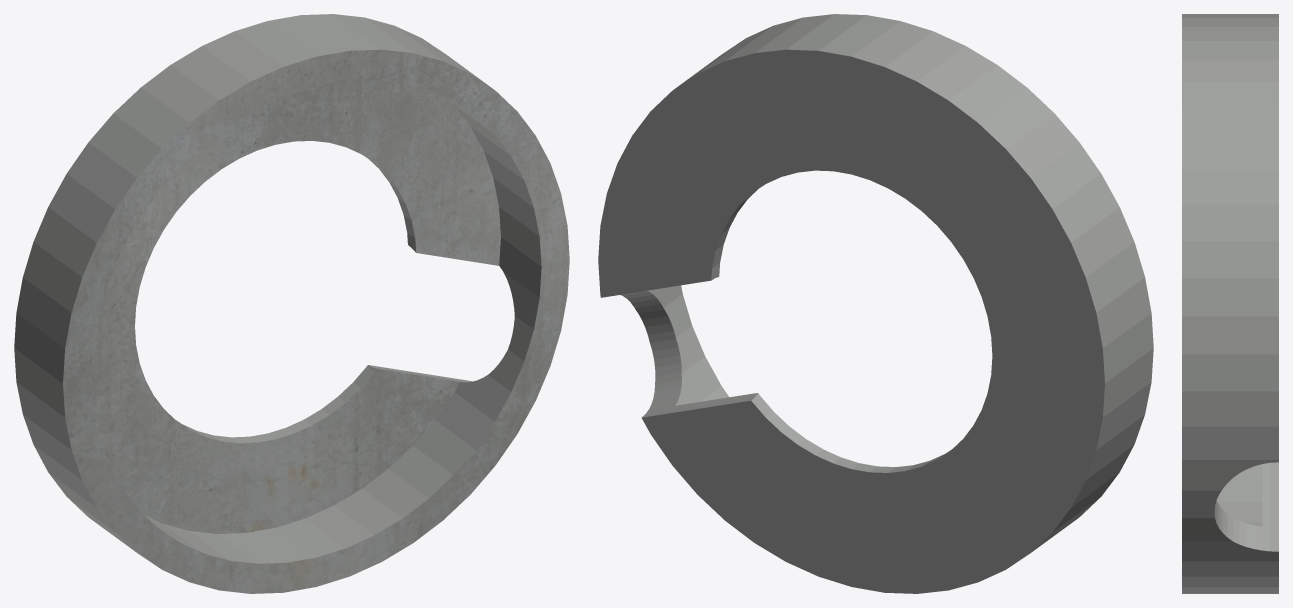
The model's file is pool_013.obj.
3 views of the same model, side by side, from view 1: azimuth 30°, elevation 25°; view 2: azimuth 150°, elevation 25°; view 3: azimuth 270°, elevation 25° (orthographic).
Bounding box in the file's own units: 18 × 18 × 3.
